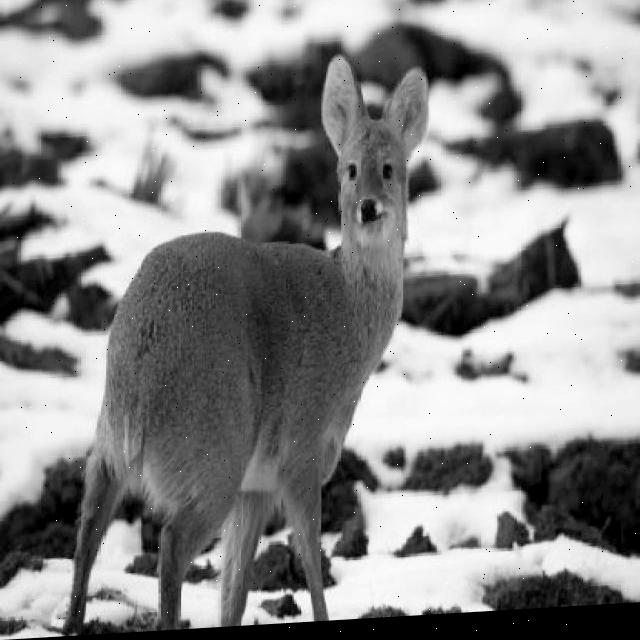Deer: (36, 50, 448, 637)
